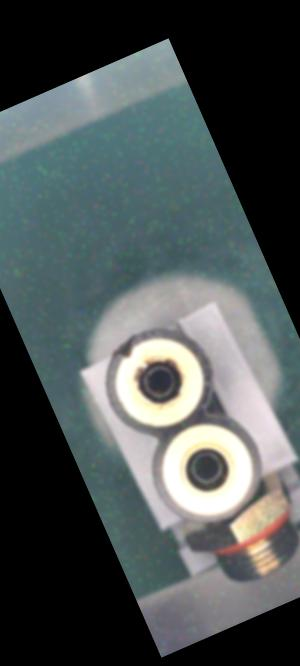bump: (108, 332, 145, 364)
